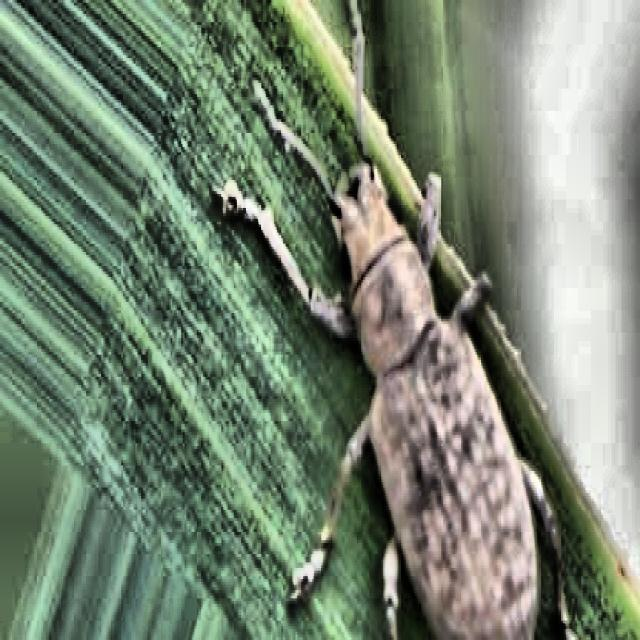Stink bug: (217, 88, 600, 640)
